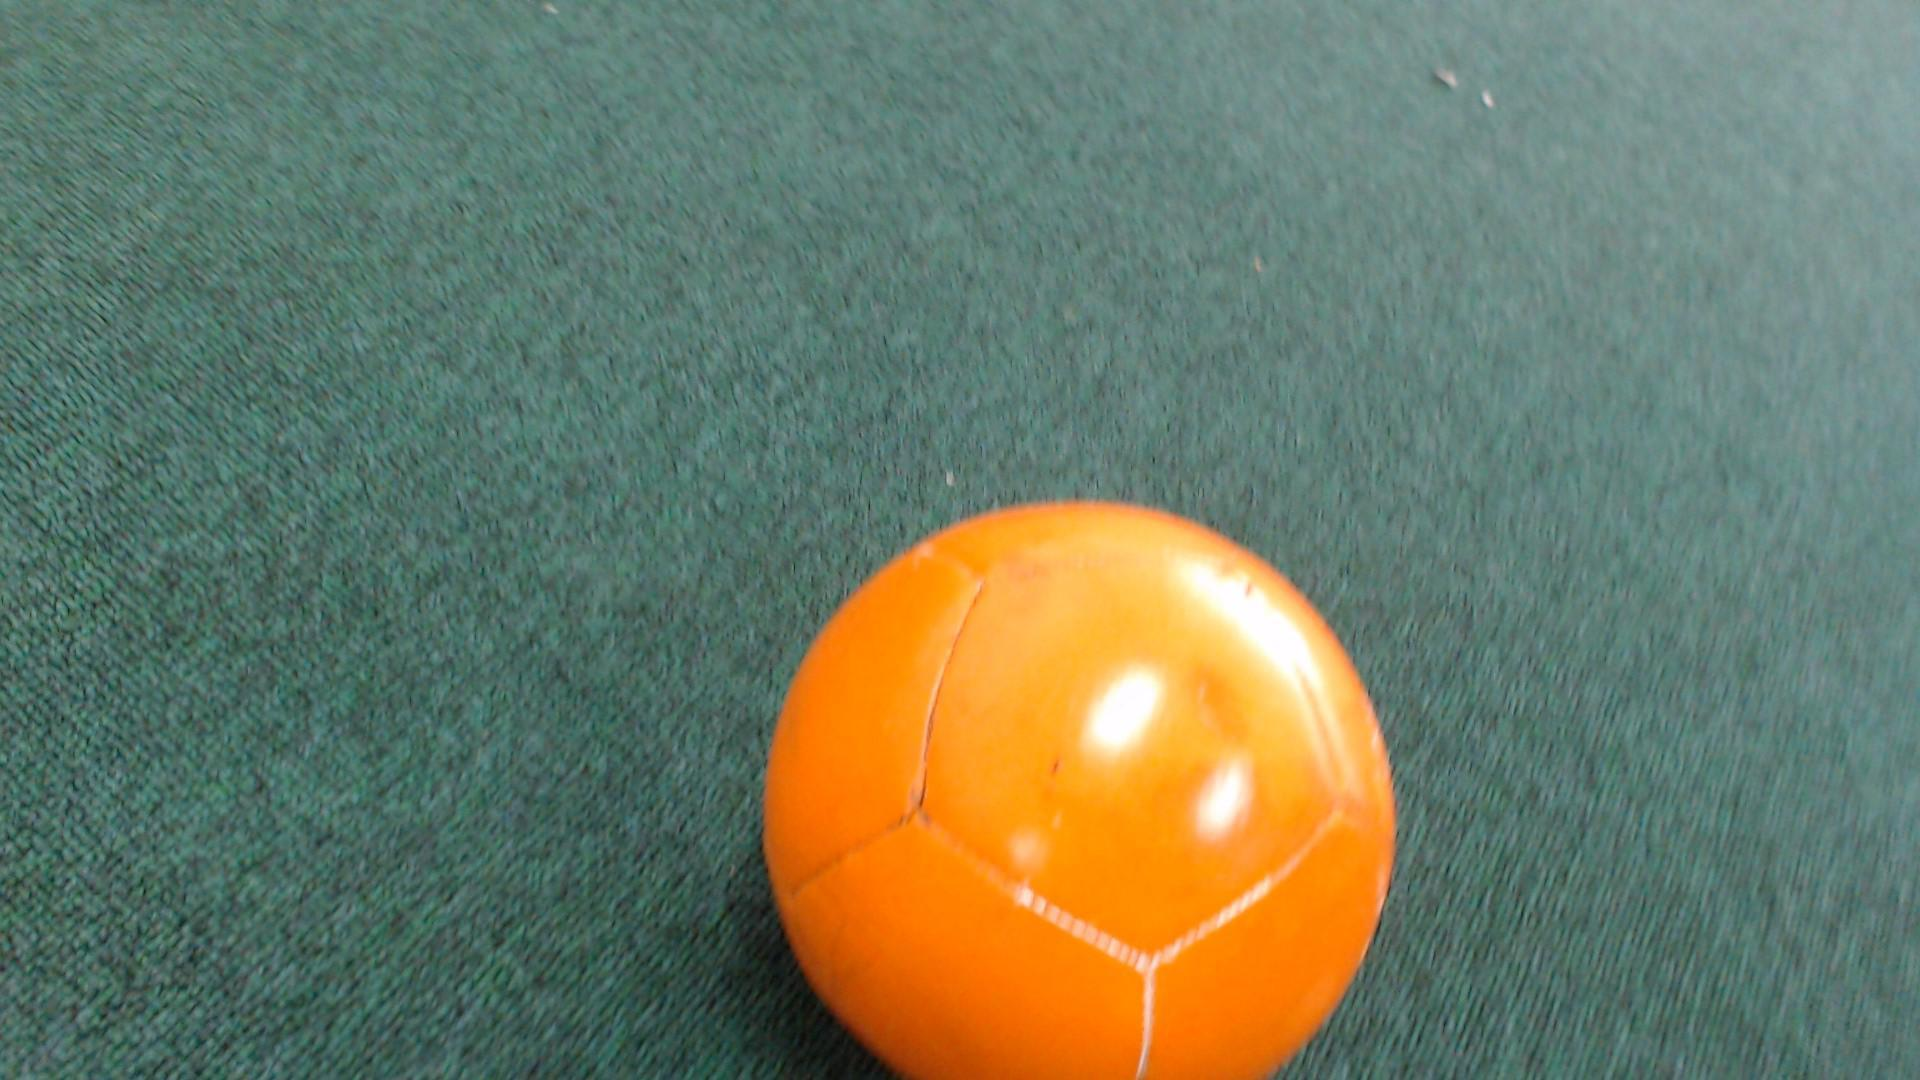bola: (721, 465, 1432, 1079)
